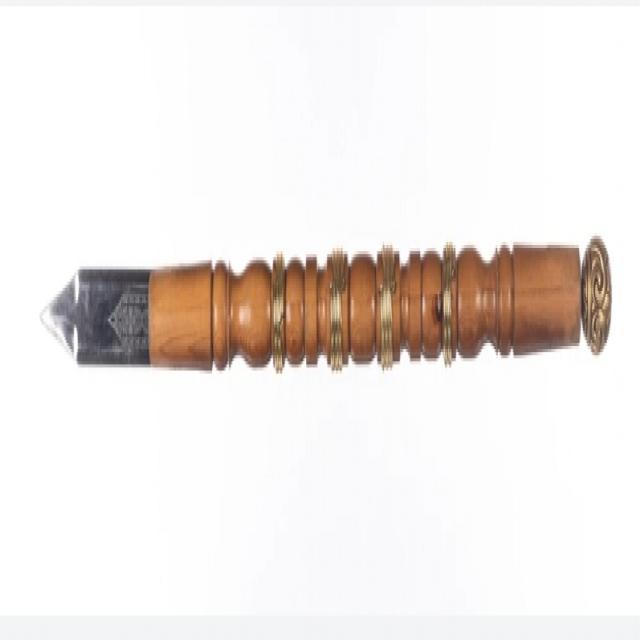spear: (33, 194, 619, 430)
